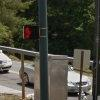Car: (18, 56, 89, 97)
